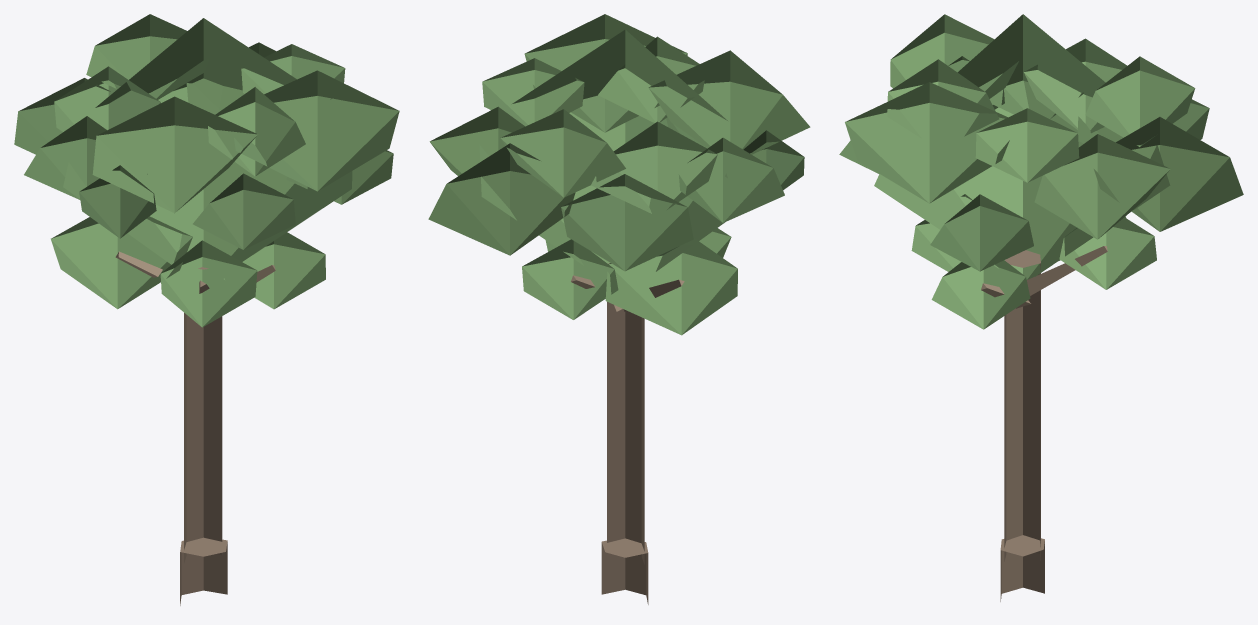
File: tree.trop.dipterocarp__spring.glb
3 views of the same model, side by side, from view 1: azimuth 30°, elevation 25°; view 2: azimuth 150°, elevation 25°; view 3: azimuth 270°, elevation 25° (orthographic). The views are drawn at different scales.
Parts seen in each view (by area): view 1: tree.trop.dipterocarp__spring; view 2: tree.trop.dipterocarp__spring; view 3: tree.trop.dipterocarp__spring.
Part boxes in pixels (x1,y1,x2,y2): tree.trop.dipterocarp__spring: (14, 14, 399, 605); tree.trop.dipterocarp__spring: (428, 14, 810, 604); tree.trop.dipterocarp__spring: (839, 14, 1243, 601).
Bounding box in the file's own units: 17.86 × 29.23 × 18.32.
